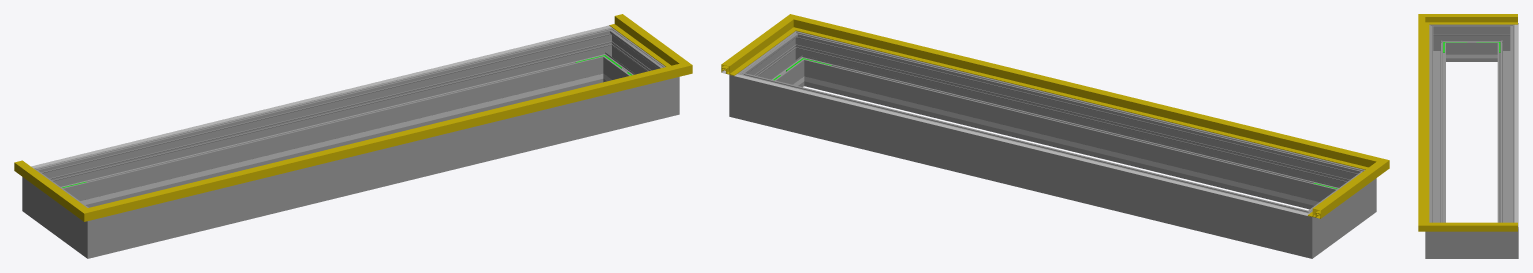
3 renders of one model, left to right at view 1: azimuth 30°, elevation 25°; view 2: azimuth 150°, elevation 25°; view 3: azimuth 270°, elevation 25°, orthographic. The views are drawn at different scales.
Visible parts, largest first — view 1: 3DGeom-276, 3DGeom-298, 3DGeom-123, 3DGeom-244, 3DGeom-220, 3DGeom-270, 3DGeom-284, 3DGeom-290, 3DGeom-268, 3DGeom-128, 3DGeom-297, 3DGeom-278 (+3 smaller); view 2: 3DGeom-298, 3DGeom-276, 3DGeom-123, 3DGeom-239, 3DGeom-278, 3DGeom-220, 3DGeom-284, 3DGeom-290, 3DGeom-297, 3DGeom-128, 3DGeom-268, 3DGeom-118 (+3 smaller); view 3: 3DGeom-276, 3DGeom-298, 3DGeom-123, 3DGeom-268, 3DGeom-297, 3DGeom-220, 3DGeom-118, 3DGeom-284, 3DGeom-290, 3DGeom-128, 3DGeom-278, 3DGeom-270 (+4 smaller).
Part boxes in pixels (bbox=[...]): 3DGeom-276: bbox=[55, 33, 598, 207]; 3DGeom-298: bbox=[118, 84, 649, 251]; 3DGeom-123: bbox=[110, 69, 662, 214]; 3DGeom-244: bbox=[91, 81, 573, 203]; 3DGeom-220: bbox=[31, 25, 611, 168]; 3DGeom-270: bbox=[70, 201, 117, 258]; 3DGeom-284: bbox=[586, 27, 626, 83]; 3DGeom-290: bbox=[649, 60, 679, 121]; 3DGeom-268: bbox=[39, 179, 79, 245]; 3DGeom-128: bbox=[609, 14, 674, 63]; 3DGeom-297: bbox=[606, 38, 656, 81]; 3DGeom-278: bbox=[22, 163, 67, 223]; 3DGeom-298: bbox=[809, 37, 1343, 209]; 3DGeom-276: bbox=[759, 78, 1287, 251]; 3DGeom-123: bbox=[812, 21, 1358, 166]; 3DGeom-239: bbox=[833, 83, 1308, 204]; 3DGeom-278: bbox=[1282, 202, 1329, 258]; 3DGeom-220: bbox=[734, 74, 1309, 215]; 3DGeom-284: bbox=[729, 63, 764, 123]; 3DGeom-290: bbox=[781, 31, 820, 87]; 3DGeom-297: bbox=[751, 41, 801, 86]; 3DGeom-128: bbox=[721, 26, 785, 75]; 3DGeom-268: bbox=[1320, 180, 1359, 245]; 3DGeom-118: bbox=[1307, 171, 1372, 218]; 3DGeom-276: bbox=[1497, 33, 1514, 222]; 3DGeom-298: bbox=[1429, 33, 1445, 222]; 3DGeom-123: bbox=[1418, 24, 1429, 220]; 3DGeom-268: bbox=[1450, 24, 1493, 61]; 3DGeom-297: bbox=[1450, 231, 1493, 258]; 3DGeom-220: bbox=[1514, 24, 1518, 227]; 3DGeom-118: bbox=[1443, 14, 1517, 24]; 3DGeom-284: bbox=[1493, 218, 1518, 258]; 3DGeom-290: bbox=[1425, 218, 1450, 258]; 3DGeom-128: bbox=[1443, 222, 1517, 231]; 3DGeom-278: bbox=[1493, 23, 1518, 61]; 3DGeom-270: bbox=[1429, 24, 1450, 61].
Size of the model in its own units: 3.05 by 0.2434 by 0.6096.
